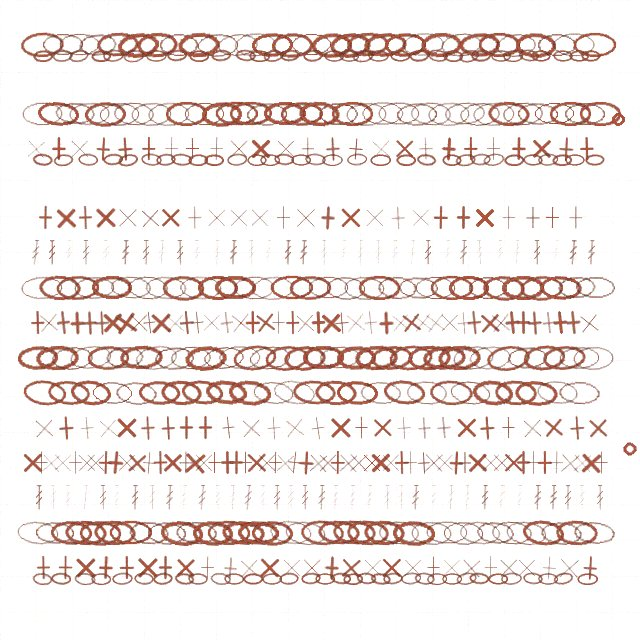chain: (133, 342, 180, 373), (271, 377, 317, 408), (485, 343, 532, 373), (283, 518, 328, 548), (232, 343, 278, 372), (388, 343, 434, 372), (504, 518, 548, 548), (68, 343, 113, 372), (247, 343, 292, 372), (451, 343, 496, 372), (522, 343, 567, 372), (22, 378, 67, 407), (180, 378, 225, 407), (227, 378, 272, 407), (382, 378, 427, 407), (448, 378, 493, 407), (535, 378, 580, 407), (268, 518, 313, 547), (264, 344, 310, 372), (439, 30, 483, 59), (69, 378, 113, 407), (204, 378, 248, 407), (471, 378, 515, 407), (521, 518, 565, 547), (36, 100, 81, 128), (251, 379, 296, 407), (15, 519, 60, 547), (159, 519, 204, 547), (116, 31, 160, 59), (216, 31, 260, 59), (363, 31, 407, 59), (494, 31, 538, 59), (50, 344, 94, 372), (202, 344, 246, 372), (283, 344, 327, 372), (422, 344, 466, 372), (468, 344, 512, 372), (542, 344, 586, 372), (47, 379, 91, 407), (114, 379, 158, 407), (514, 379, 558, 407), (221, 519, 265, 547), (458, 519, 502, 547), (539, 519, 583, 547), (572, 519, 616, 547), (233, 31, 278, 58), (300, 519, 345, 546), (329, 31, 372, 59), (458, 100, 501, 128), (184, 344, 227, 372), (370, 344, 413, 372), (474, 519, 517, 547), (20, 31, 64, 58), (96, 31, 140, 58), (346, 31, 390, 58), (401, 31, 445, 58), (112, 100, 156, 127), (443, 100, 487, 127), (501, 100, 545, 127), (126, 274, 170, 301), (35, 344, 79, 371), (119, 344, 163, 371), (354, 344, 398, 371), (407, 344, 451, 371), (437, 344, 481, 371), (292, 379, 336, 406), (429, 379, 473, 406), (494, 379, 538, 406), (557, 379, 601, 406), (93, 519, 137, 546), (174, 519, 218, 546), (332, 519, 376, 546), (346, 519, 390, 546), (377, 519, 421, 546), (77, 31, 119, 59), (136, 31, 179, 58), (177, 31, 220, 58), (420, 31, 463, 58), (53, 100, 96, 127), (298, 100, 341, 127), (409, 100, 452, 127), (487, 100, 530, 127), (38, 274, 81, 301), (109, 274, 152, 301), (376, 274, 419, 301), (169, 344, 212, 371), (318, 344, 361, 371), (160, 379, 203, 406), (314, 379, 357, 406), (405, 379, 448, 406), (64, 519, 107, 546), (127, 519, 170, 546), (317, 519, 360, 546), (363, 519, 406, 546), (490, 519, 533, 546), (555, 519, 598, 546), (144, 275, 188, 301), (251, 275, 295, 301), (539, 275, 583, 301), (556, 274, 598, 301), (104, 344, 146, 371), (196, 32, 239, 58), (251, 32, 294, 58), (384, 32, 427, 58), (68, 101, 111, 127), (84, 101, 127, 127), (98, 101, 141, 127), (147, 101, 190, 127), (245, 101, 288, 127), (280, 101, 323, 127), (345, 101, 388, 127), (395, 101, 438, 127), (427, 101, 470, 127), (472, 101, 515, 127), (516, 101, 559, 127), (20, 275, 63, 301), (56, 275, 99, 301), (162, 275, 205, 301), (179, 275, 222, 301), (289, 275, 332, 301), (482, 275, 525, 301), (520, 275, 563, 301), (87, 345, 130, 371), (572, 345, 615, 371), (91, 380, 134, 406), (138, 380, 181, 406), (336, 380, 379, 406), (359, 380, 402, 406), (50, 520, 93, 546), (79, 520, 122, 546), (251, 520, 294, 546), (392, 520, 435, 546), (410, 520, 453, 546), (552, 32, 596, 57), (573, 32, 617, 57), (430, 275, 474, 300), (207, 520, 251, 545), (271, 32, 313, 58), (311, 32, 353, 58), (459, 32, 501, 58), (515, 32, 557, 58), (130, 101, 172, 127), (201, 101, 243, 127), (73, 275, 115, 301), (325, 275, 367, 301), (343, 275, 385, 301), (397, 275, 439, 301), (17, 345, 59, 371), (153, 345, 195, 371), (506, 345, 548, 371), (558, 345, 600, 371), (34, 520, 76, 546), (146, 520, 188, 546), (192, 520, 234, 546), (237, 520, 279, 546), (442, 520, 484, 546), (41, 32, 84, 57), (58, 32, 101, 57), (290, 32, 333, 57), (21, 101, 64, 126), (165, 101, 208, 126), (215, 101, 258, 126), (229, 101, 272, 126), (263, 101, 306, 126), (331, 101, 374, 126), (361, 101, 404, 126), (377, 101, 420, 126), (533, 101, 576, 126), (549, 101, 592, 126), (563, 101, 606, 126), (270, 275, 313, 300), (358, 275, 401, 300), (414, 275, 457, 300), (501, 275, 544, 300), (218, 345, 261, 370), (109, 520, 152, 545), (425, 520, 468, 545), (336, 345, 377, 371), (158, 32, 200, 57), (478, 32, 520, 57), (536, 32, 578, 57), (183, 101, 225, 126), (317, 101, 359, 126), (579, 101, 621, 126), (91, 275, 133, 300), (197, 275, 239, 300), (214, 275, 256, 300), (233, 275, 275, 300), (307, 275, 349, 300), (448, 275, 490, 300), (467, 275, 509, 300), (574, 275, 616, 300), (302, 345, 344, 370), (68, 48, 90, 64), (458, 48, 480, 64), (117, 152, 139, 168), (483, 152, 505, 167), (427, 48, 448, 63), (518, 48, 539, 63), (456, 571, 477, 586), (553, 571, 574, 586), (123, 49, 145, 63), (352, 49, 374, 63), (74, 572, 96, 586), (52, 49, 73, 63), (263, 49, 284, 63), (53, 153, 74, 167), (416, 153, 437, 167), (455, 153, 476, 167), (32, 572, 53, 586), (174, 572, 195, 586), (210, 572, 231, 586), (370, 572, 391, 586), (103, 49, 124, 62), (235, 49, 256, 62), (32, 153, 53, 166), (141, 153, 162, 166), (171, 153, 192, 166), (305, 153, 326, 166), (112, 572, 133, 585), (356, 572, 377, 585), (414, 572, 435, 585), (501, 572, 522, 585), (167, 49, 187, 62), (211, 49, 231, 62), (280, 49, 300, 62), (303, 49, 323, 62), (409, 49, 429, 62), (471, 49, 491, 62), (78, 153, 98, 166), (103, 153, 123, 166), (156, 153, 176, 166), (227, 153, 247, 166), (274, 153, 294, 166), (347, 153, 367, 166), (471, 153, 491, 166), (538, 153, 558, 166), (51, 572, 71, 585), (134, 572, 154, 585), (153, 572, 173, 585), (279, 572, 299, 585), (301, 572, 321, 585), (331, 572, 351, 585), (383, 572, 403, 585), (401, 572, 421, 585), (469, 572, 489, 585), (523, 572, 543, 585), (146, 50, 167, 62), (249, 50, 270, 62), (368, 50, 389, 62), (322, 154, 343, 166), (370, 154, 391, 166), (577, 573, 598, 585), (33, 50, 53, 62), (91, 50, 111, 62), (189, 50, 209, 62), (324, 50, 344, 62), (339, 50, 359, 62), (390, 50, 410, 62), (443, 50, 463, 62), (491, 50, 511, 62), (503, 50, 523, 62), (531, 50, 551, 62), (553, 50, 573, 62), (569, 50, 589, 62), (581, 50, 601, 62), (188, 154, 208, 166), (204, 154, 224, 166), (247, 154, 267, 166), (260, 154, 280, 166), (291, 154, 311, 166), (396, 154, 416, 166), (442, 154, 462, 166), (504, 154, 524, 166), (523, 154, 543, 166), (552, 154, 572, 166), (565, 154, 585, 166), (585, 154, 605, 166), (91, 573, 111, 585), (188, 573, 208, 585), (224, 573, 244, 585), (243, 573, 263, 585), (262, 573, 282, 585), (315, 573, 335, 585), (343, 573, 363, 585), (427, 573, 447, 585), (442, 573, 462, 585), (488, 573, 508, 585), (538, 573, 558, 585)
noise: (621, 440, 638, 457), (610, 111, 626, 127)
single: (112, 309, 140, 337), (575, 309, 603, 337), (304, 414, 332, 442), (35, 309, 62, 336), (50, 309, 77, 336), (136, 309, 163, 336), (173, 309, 200, 336), (184, 309, 211, 336), (213, 309, 240, 336), (227, 309, 254, 336), (252, 309, 279, 336), (342, 309, 369, 336), (357, 309, 384, 336), (387, 309, 414, 336), (398, 309, 425, 336), (409, 309, 436, 336), (422, 309, 449, 336), (461, 309, 488, 336), (487, 309, 514, 336), (499, 309, 526, 336), (535, 309, 562, 336), (547, 309, 574, 336), (560, 309, 587, 336), (215, 414, 242, 441), (281, 414, 308, 441), (430, 414, 457, 441), (540, 414, 567, 441), (102, 449, 129, 476), (281, 449, 308, 476), (23, 136, 49, 162), (90, 136, 116, 162), (112, 136, 138, 162), (320, 136, 346, 162), (343, 136, 369, 162), (368, 136, 394, 162), (436, 136, 462, 162), (553, 136, 579, 162), (53, 205, 79, 231), (137, 205, 163, 231), (315, 205, 341, 231), (385, 205, 411, 231), (64, 310, 90, 336), (77, 310, 103, 336), (89, 310, 115, 336), (148, 310, 174, 336), (162, 310, 188, 336), (292, 310, 318, 336), (318, 310, 344, 336), (329, 310, 355, 336), (373, 310, 399, 336), (451, 310, 477, 336), (477, 310, 503, 336), (522, 310, 548, 336), (31, 415, 57, 441), (53, 415, 79, 441), (74, 415, 100, 441), (95, 415, 121, 441), (135, 415, 161, 441), (155, 415, 181, 441), (238, 415, 264, 441), (261, 415, 287, 441), (391, 415, 417, 441), (411, 415, 437, 441), (474, 415, 500, 441), (519, 415, 545, 441), (564, 415, 590, 441), (585, 415, 611, 441), (38, 450, 64, 476), (124, 450, 150, 476), (136, 450, 162, 476), (182, 450, 208, 476), (272, 450, 298, 476), (293, 450, 319, 476), (305, 450, 331, 476), (335, 450, 361, 476), (411, 450, 437, 476), (443, 450, 469, 476), (557, 450, 583, 476), (569, 450, 595, 476), (578, 450, 604, 476), (217, 555, 243, 581), (236, 555, 262, 581), (319, 555, 345, 581), (338, 555, 364, 581), (458, 555, 484, 581), (536, 555, 562, 581), (556, 555, 582, 581), (577, 555, 603, 581), (46, 136, 71, 161), (67, 136, 92, 161), (136, 136, 161, 161), (159, 136, 184, 161), (180, 136, 205, 161), (204, 136, 229, 161), (226, 136, 251, 161), (248, 136, 273, 161), (273, 136, 298, 161), (295, 136, 320, 161), (392, 136, 417, 161), (413, 136, 438, 161), (458, 136, 483, 161), (481, 136, 506, 161), (506, 136, 531, 161), (529, 136, 554, 161), (574, 136, 599, 161), (33, 205, 58, 230), (73, 205, 98, 230), (93, 205, 118, 230), (115, 205, 140, 230), (158, 205, 183, 230), (182, 205, 207, 230), (204, 205, 229, 230), (226, 205, 251, 230), (247, 205, 272, 230), (271, 205, 296, 230), (293, 205, 318, 230), (338, 205, 363, 230), (362, 205, 387, 230), (408, 205, 433, 230), (428, 205, 453, 230), (451, 205, 476, 230), (472, 205, 497, 230), (496, 205, 521, 230), (520, 205, 545, 230), (540, 205, 565, 230), (563, 205, 588, 230), (25, 310, 50, 335), (100, 310, 125, 335), (126, 310, 151, 335), (199, 310, 224, 335), (240, 310, 265, 335), (266, 310, 291, 335), (280, 310, 305, 335), (306, 310, 331, 335), (437, 310, 462, 335), (511, 310, 536, 335), (114, 415, 139, 440), (174, 415, 199, 440), (193, 415, 218, 440), (328, 415, 353, 440), (349, 415, 374, 440), (370, 415, 395, 440), (454, 415, 479, 440), (496, 415, 521, 440), (20, 450, 45, 475), (29, 450, 54, 475), (50, 450, 75, 475), (63, 450, 88, 475), (74, 450, 99, 475), (83, 450, 108, 475), (93, 450, 118, 475), (114, 450, 139, 475), (148, 450, 173, 475), (160, 450, 185, 475), (173, 450, 198, 475), (191, 450, 216, 475), (202, 450, 227, 475), (215, 450, 240, 475), (224, 450, 249, 475), (233, 450, 258, 475), (244, 450, 269, 475), (254, 450, 279, 475), (263, 450, 288, 475), (315, 450, 340, 475), (325, 450, 350, 475), (346, 450, 371, 475), (359, 450, 384, 475), (368, 450, 393, 475), (378, 450, 403, 475), (389, 450, 414, 475), (398, 450, 423, 475), (421, 450, 446, 475), (432, 450, 457, 475), (452, 450, 477, 475), (465, 450, 490, 475), (478, 450, 503, 475), (489, 450, 514, 475), (501, 450, 526, 475), (511, 450, 536, 475), (521, 450, 546, 475), (532, 450, 557, 475), (544, 450, 569, 475), (589, 450, 614, 475), (31, 555, 56, 580), (53, 555, 78, 580), (73, 555, 98, 580), (93, 555, 118, 580), (114, 555, 139, 580), (135, 555, 160, 580), (153, 555, 178, 580), (173, 555, 198, 580), (195, 555, 220, 580), (257, 555, 282, 580), (279, 555, 304, 580), (299, 555, 324, 580), (360, 555, 385, 580), (379, 555, 404, 580), (400, 555, 425, 580), (421, 555, 446, 580), (439, 555, 464, 580), (478, 555, 503, 580), (496, 555, 521, 580), (514, 555, 539, 580)
treble: (30, 240, 41, 265), (407, 240, 417, 265), (551, 240, 561, 265), (568, 240, 578, 265), (80, 485, 90, 510), (179, 485, 189, 510), (197, 485, 207, 510), (243, 485, 253, 510), (121, 240, 130, 265), (157, 240, 166, 265), (229, 240, 238, 265), (264, 240, 273, 265), (299, 240, 308, 265), (339, 240, 348, 265), (356, 240, 365, 265), (390, 240, 399, 265), (443, 240, 452, 265), (459, 240, 468, 265), (475, 240, 484, 265), (512, 240, 521, 265), (587, 240, 596, 265), (112, 485, 121, 510), (165, 485, 174, 510), (228, 485, 237, 510), (317, 485, 326, 510), (331, 485, 340, 510), (348, 485, 357, 510), (365, 485, 374, 510), (411, 485, 420, 510), (446, 485, 455, 510), (462, 485, 471, 510), (497, 485, 506, 510), (515, 485, 524, 510), (533, 485, 542, 510), (549, 485, 558, 510), (48, 240, 56, 265), (65, 240, 73, 265), (82, 240, 90, 265), (102, 240, 110, 265), (142, 240, 150, 265), (176, 240, 184, 265), (193, 240, 201, 265), (213, 240, 221, 265), (247, 240, 255, 265), (284, 240, 292, 265), (320, 240, 328, 265), (374, 240, 382, 265), (424, 240, 432, 265), (496, 240, 504, 265), (533, 240, 541, 265), (35, 485, 43, 510), (49, 485, 57, 510), (64, 485, 72, 510), (99, 485, 107, 510), (131, 485, 139, 510), (148, 485, 156, 510), (214, 485, 222, 510), (259, 485, 267, 510), (273, 485, 281, 510), (287, 485, 295, 510), (301, 485, 309, 510), (383, 485, 391, 510), (397, 485, 405, 510), (430, 485, 438, 510), (481, 485, 489, 510), (564, 485, 572, 510), (578, 485, 586, 510), (596, 485, 604, 510)
